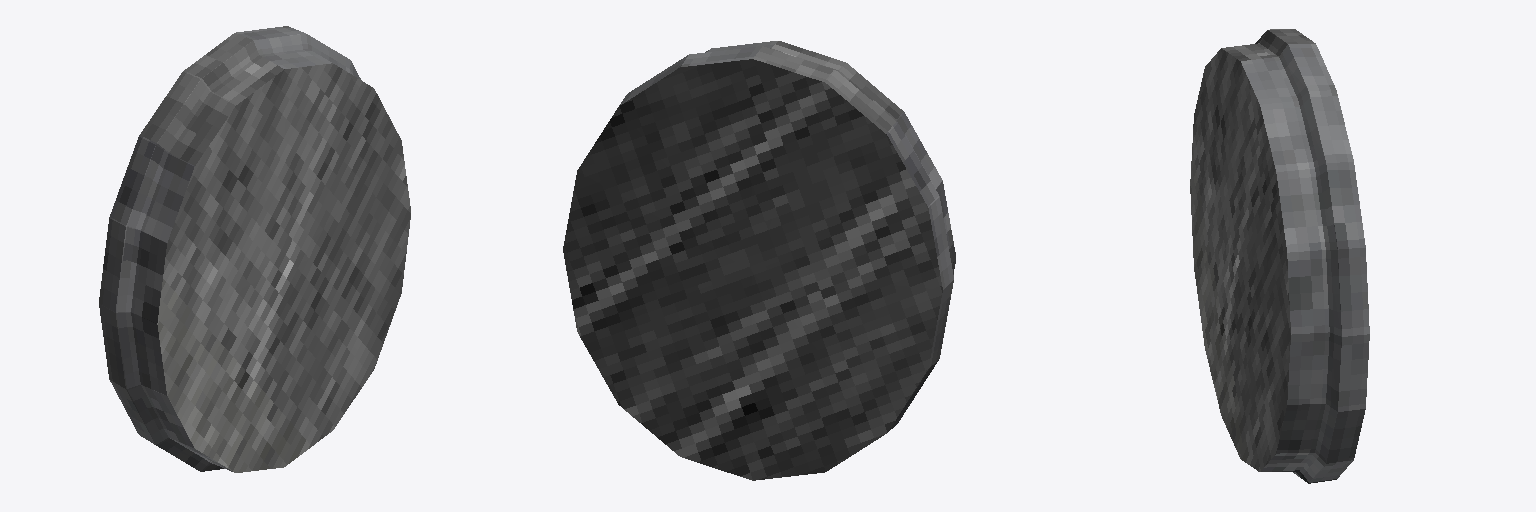
3 renders of one model, left to right at view 1: azimuth 30°, elevation 25°; view 2: azimuth 150°, elevation 25°; view 3: azimuth 270°, elevation 25°, orthographic.
Visible parts, largest first — view 1: LlantaDer8; view 2: LlantaDer8; view 3: LlantaDer8.
Part boxes in pixels (x1,y1,x2,y2): LlantaDer8: (99, 26, 410, 472); LlantaDer8: (563, 41, 955, 480); LlantaDer8: (1190, 29, 1369, 483).
Bounding box in the file's own units: 0.2181 × 0.2666 × 0.1022.
Materials: 1 (1 with a texture image).